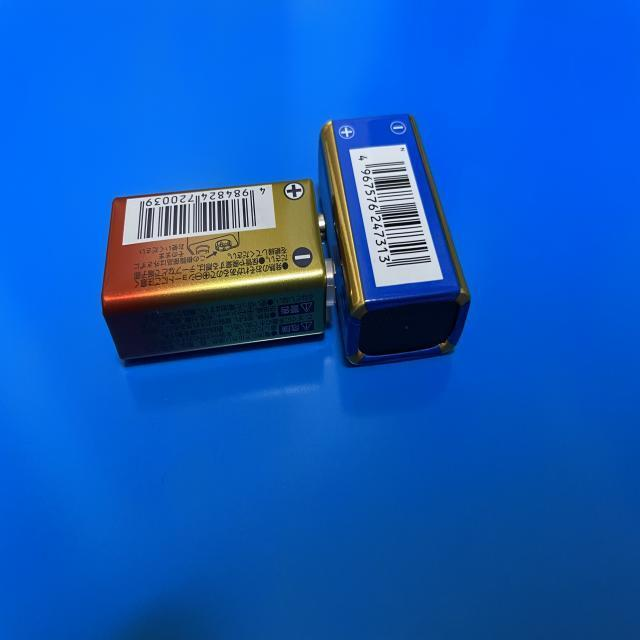9V: (101, 179, 336, 363), (317, 113, 470, 366)
